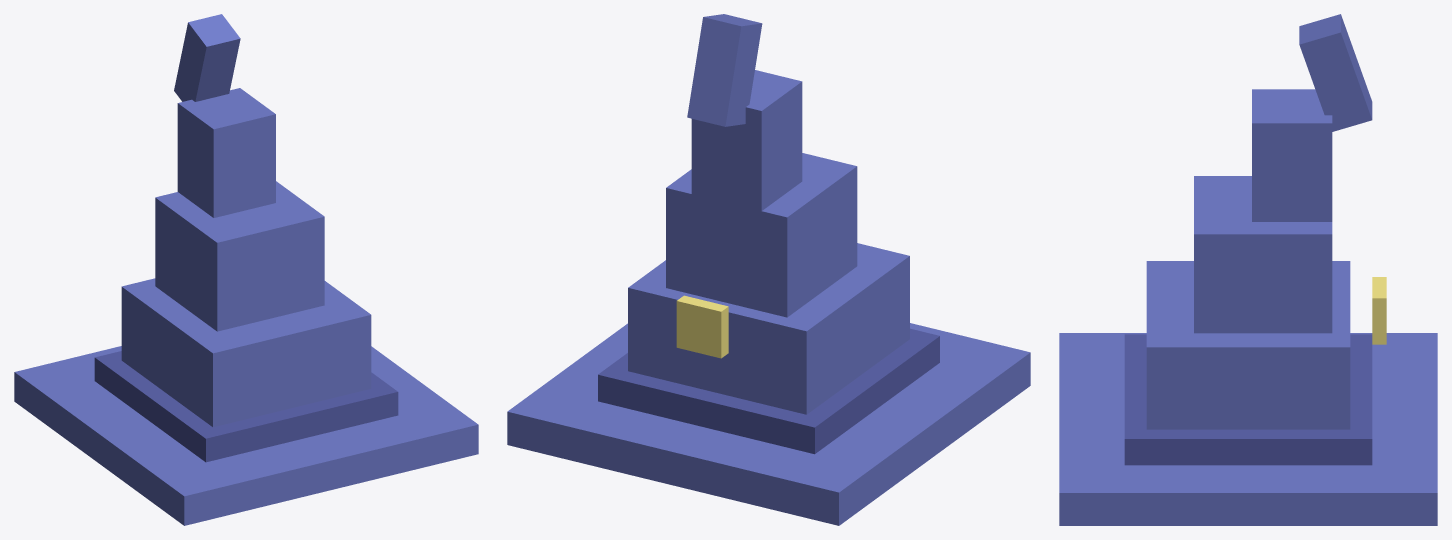
File: wizardhat.glb
3 renders of one model, left to right at view 1: azimuth 30°, elevation 25°; view 2: azimuth 150°, elevation 25°; view 3: azimuth 270°, elevation 25°, orthographic. The views are drawn at different scales.
Parts seen in each view (by area): view 1: brim, cone1, cone2, band, cone3, tip; view 2: brim, cone1, cone2, band, cone3, tip, star; view 3: brim, cone1, cone2, band, cone3, tip, star.
Part boxes in pixels (x1,y1,x2,y2): brim: (14,346,478,525); cone1: (121,278,371,427); cone2: (155,181,324,331); band: (94,351,398,462); cone3: (177,88,275,217); tip: (174,14,240,101); brim: (507,323,1030,525); cone1: (628,243,909,414); cone2: (666,153,857,317); band: (598,328,939,454); cone3: (691,70,802,217); tip: (687,14,762,126); star: (676,295,728,358); brim: (1059,333,1437,525); cone1: (1146,261,1350,429); cone2: (1194,176,1332,333); band: (1124,334,1372,465); cone3: (1252,89,1332,221); tip: (1299,14,1372,131); star: (1372,277,1386,344).
Size of the model in its own units: 0.52 by 0.6408 by 0.52.
